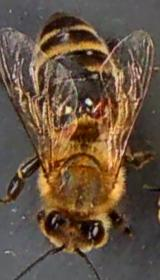varroa_mite: (89, 94, 113, 121)
